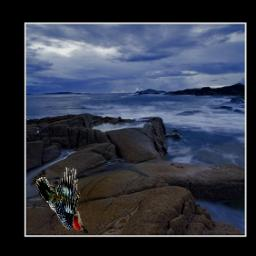Woodpecker: (35, 168, 87, 234)
